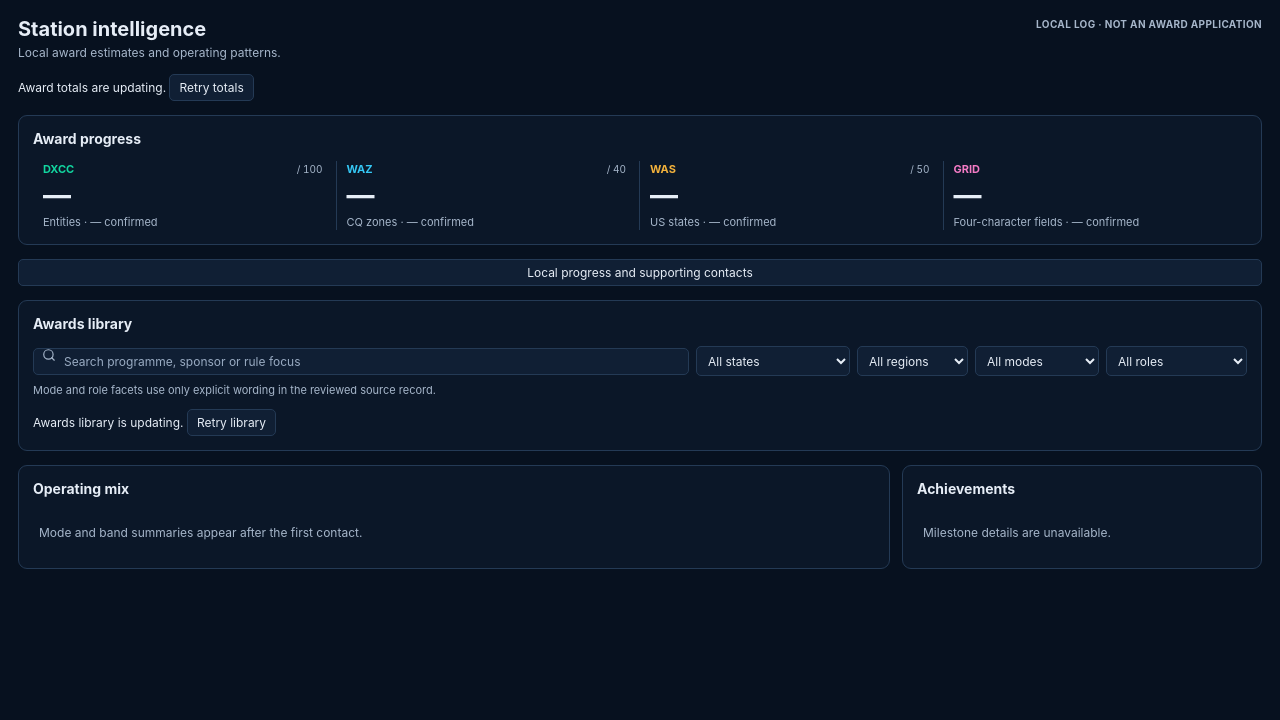
native Insights and Awards presentation › bounds logbook_refresh_superseded retries and leaves an explicit quiet retry
The width and height of the screenshot is (1280, 720).
Expected: the button "Retry totals" is shown, [170, 74, 254, 101]
Step 1. Click the button "Retry library" → [232, 423], box [187, 409, 276, 436]
(page scrolled)
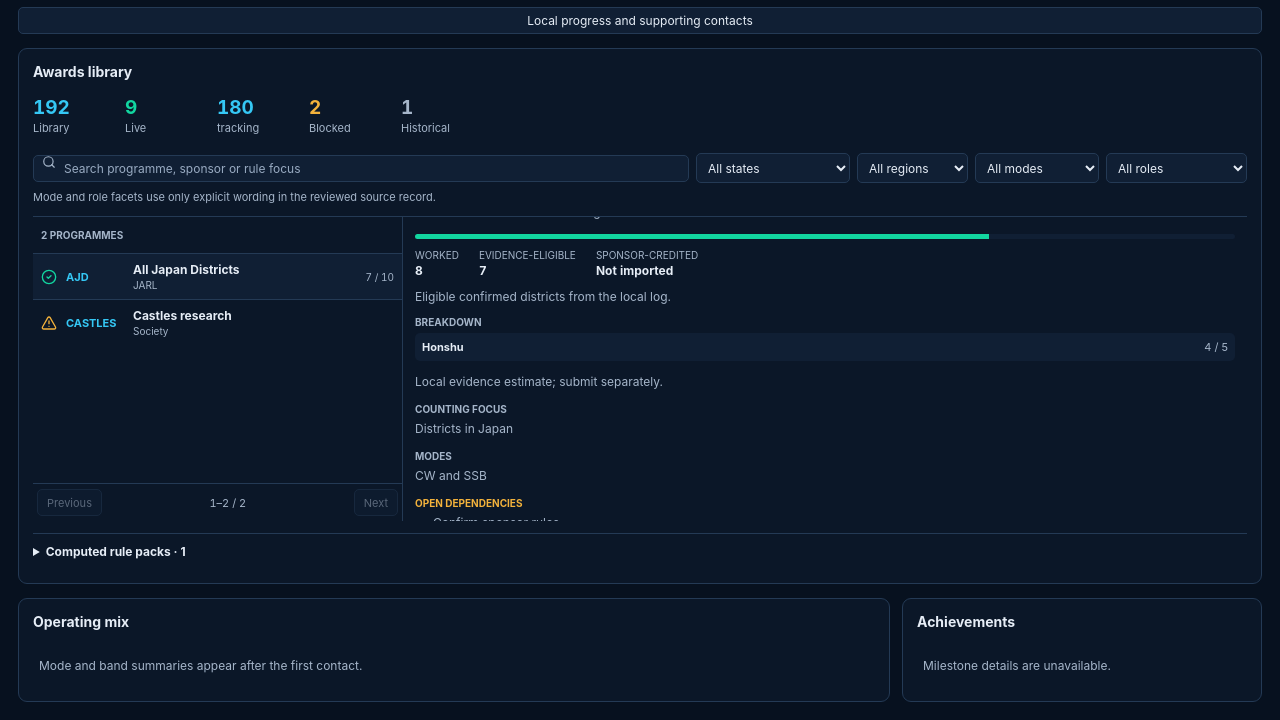
Expected: the element named "All Japan Districts detail" is shown, [403, 217, 1247, 521]
